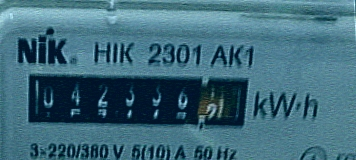0: (38, 84, 53, 113)
2: (91, 83, 110, 111)
3: (117, 82, 135, 111), (146, 81, 162, 110)
4: (64, 83, 82, 111)
6: (172, 86, 188, 114)
screen: (13, 57, 256, 149)
